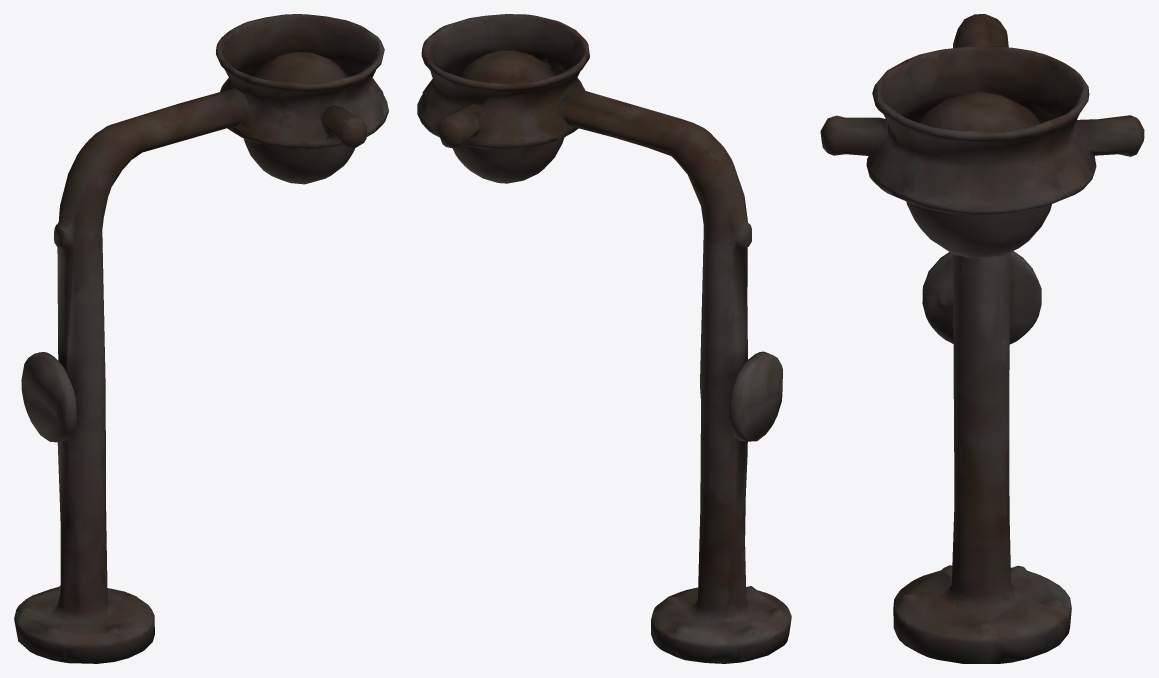
Rendered from old-iron-wall-torch-v001.glb.
The picture shows the model from 3 angles, left to right: view 1: azimuth 30°, elevation 25°; view 2: azimuth 150°, elevation 25°; view 3: azimuth 270°, elevation 25°; orthographic projection. The views are drawn at different scales.
Visible parts, largest first — view 1: old-iron-wall-torch; view 2: old-iron-wall-torch; view 3: old-iron-wall-torch.
Part boxes in pixels (box(x1,y1,x2,y2)): old-iron-wall-torch: box(14, 14, 388, 663); old-iron-wall-torch: box(417, 14, 791, 663); old-iron-wall-torch: box(820, 14, 1144, 663).
Bounding box in the file's own units: 0.4361 × 0.6295 × 0.2751.
Materials: 1 (1 with a texture image).
